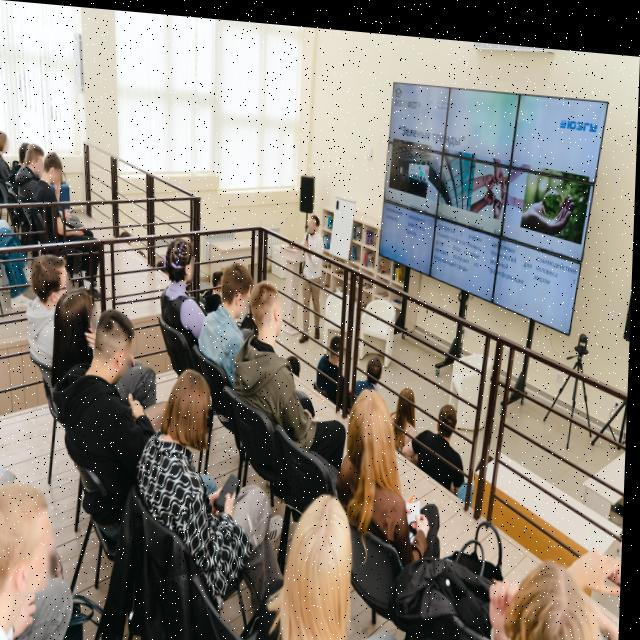Person: (141, 353, 278, 624), (331, 374, 444, 583), (269, 471, 406, 640), (468, 531, 626, 640), (240, 269, 330, 452), (73, 301, 145, 518), (0, 458, 80, 640), (29, 149, 116, 297), (207, 249, 259, 409), (12, 237, 76, 362), (295, 203, 338, 358), (49, 279, 101, 406), (424, 377, 477, 488), (155, 235, 207, 342), (387, 359, 427, 455), (11, 138, 49, 221), (320, 321, 355, 400), (364, 342, 392, 401), (0, 130, 16, 195)
